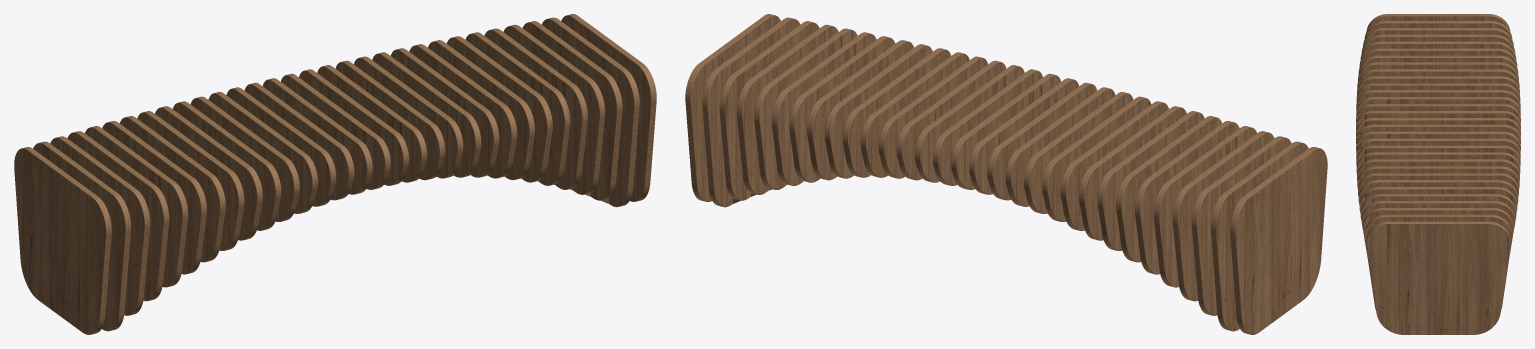
The model's file is banca2.obj.
3 renders of one model, left to right at view 1: azimuth 30°, elevation 25°; view 2: azimuth 150°, elevation 25°; view 3: azimuth 270°, elevation 25°, orthographic. The views are drawn at different scales.
Visible parts, largest first — view 1: odesd2_B1; view 2: odesd2_B1; view 3: odesd2_B1.
Boxes of the visible parts, x1,y1,x2,y2 form: odesd2_B1: [14, 14, 656, 334]; odesd2_B1: [685, 14, 1327, 334]; odesd2_B1: [1356, 14, 1520, 334].
Bounding box in the file's own units: 71.61 × 17.72 × 23.79.
Materials: 1 (1 with a texture image).
